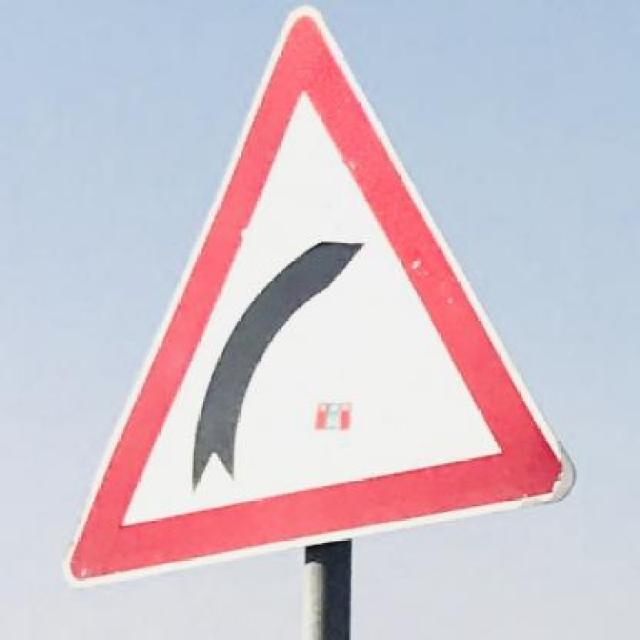right hand curve: (71, 20, 571, 578)
